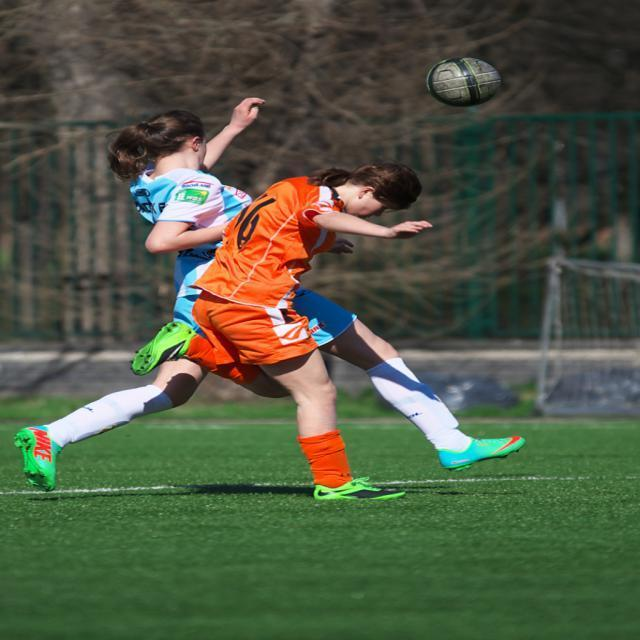football: (421, 24, 511, 117)
